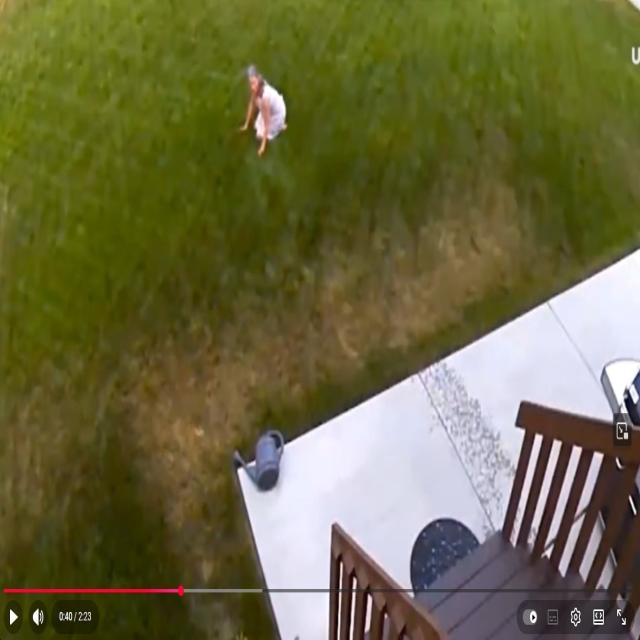fallen: (241, 67, 287, 155)
